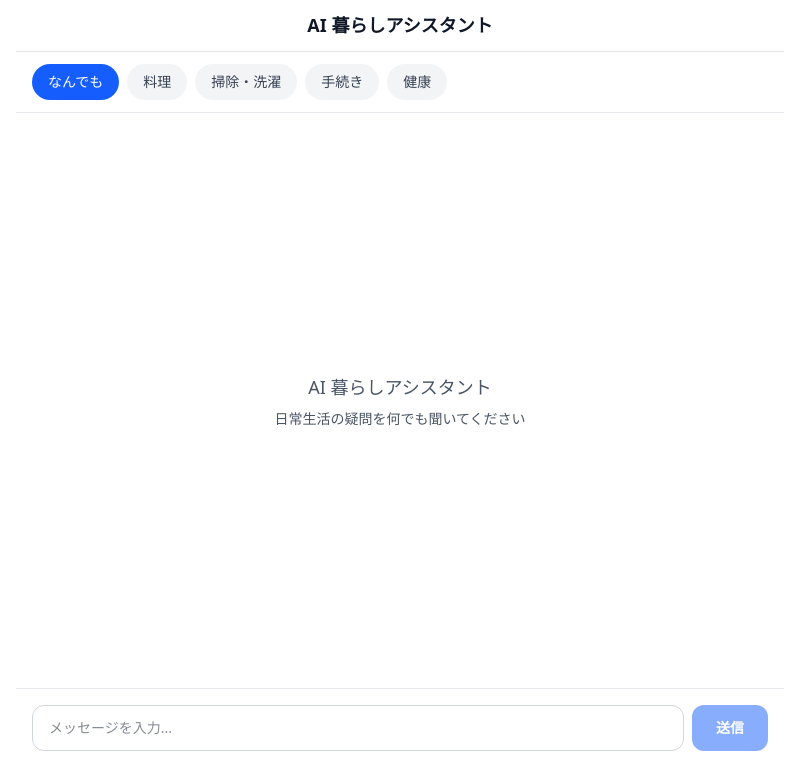
Test: チャット画面のストリーミング処理 › [DONE] 受信後にレスポンスボディを解放すること
This screenshot has width=801, height=767.
Type "テスト質問" into the field labelled "メッセージを入力".
click(358, 728); type("テスト質問")  # box x1=32 y1=705 x2=684 y2=751
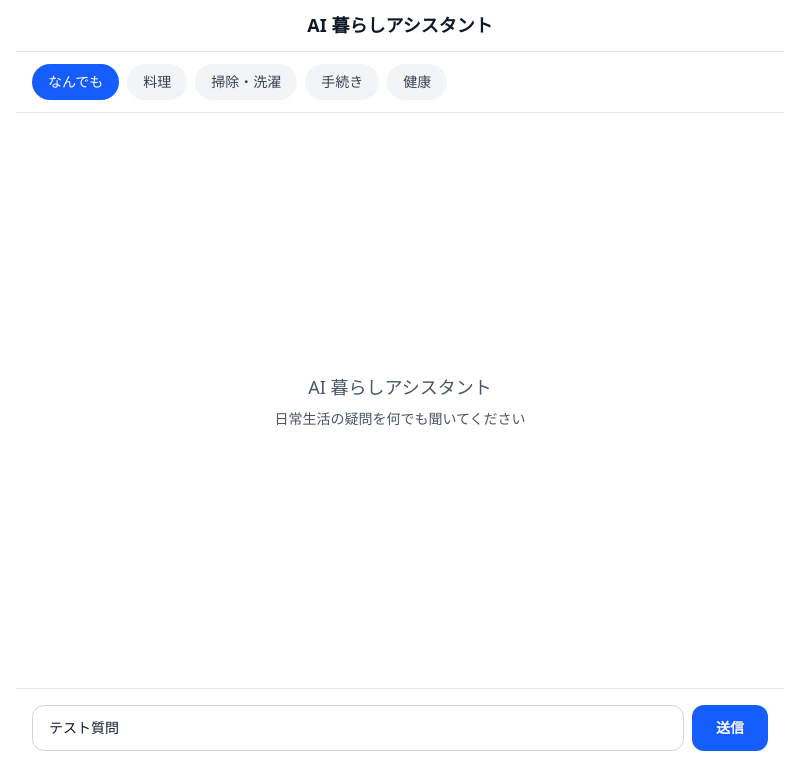
Click the button "送信".
click(730, 728)  # box x1=692 y1=705 x2=768 y2=751
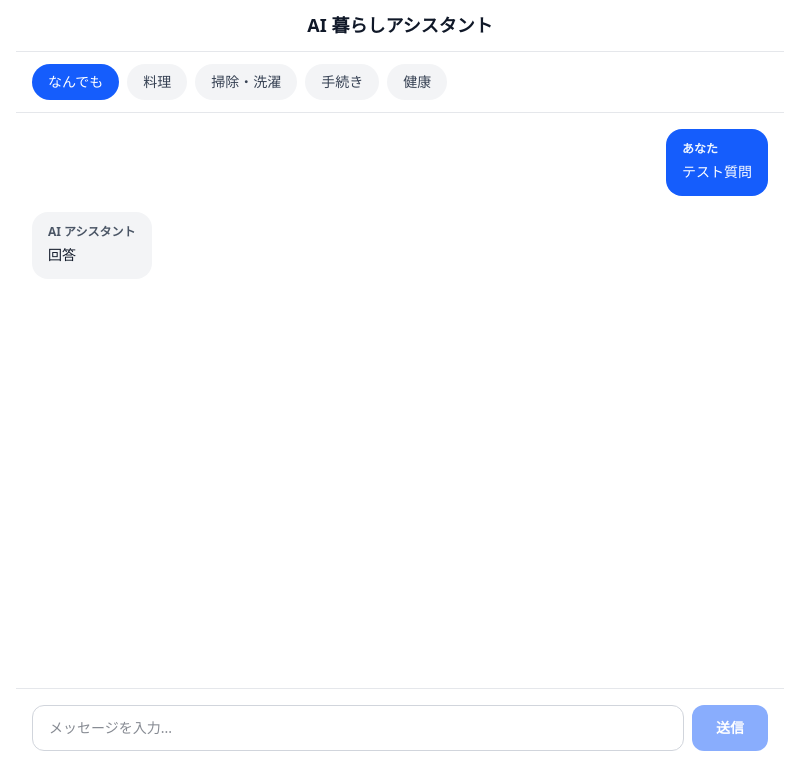
Expected: the text "回答" is shown, x1=48 y1=245 x2=76 y2=264
